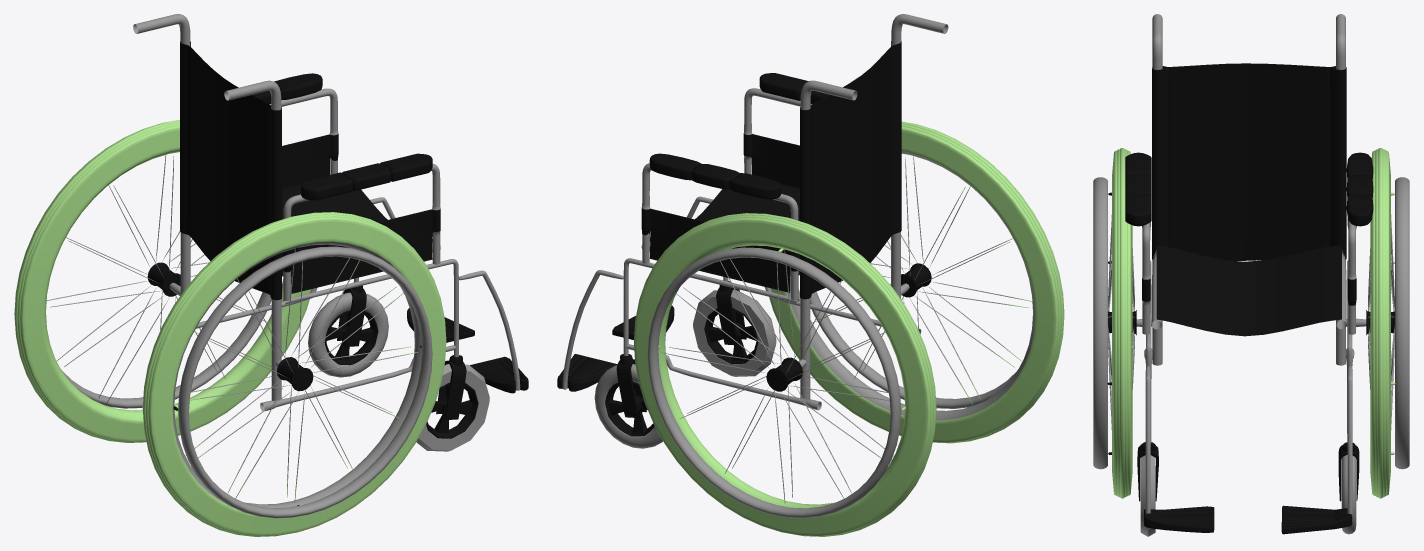
File: Wheelchair 1.FBX
The picture shows the model from 3 angles, left to right: view 1: azimuth 30°, elevation 25°; view 2: azimuth 150°, elevation 25°; view 3: azimuth 270°, elevation 25°; orthographic projection.
Visible parts, largest first — view 1: Chairs, Little wheel Right, Little wheels left, Little wheel left, Little wheel right; view 2: Chairs, Little wheels left, Little wheel Right, Little wheel right, Little wheel left; view 3: Chairs, Little wheels left, Little wheel Right, Little wheel right, Little wheel left.
Boxes of the visible parts, x1,y1,x2,y2 form: Chairs: (133,14,528,505); Little wheel Right: (142,212,446,536); Little wheels left: (14,120,311,442); Little wheel left: (308,282,388,377); Little wheel right: (416,355,489,451); Chairs: (557,14,948,411); Little wheels left: (634,213,936,536); Little wheel Right: (769,121,1064,443); Little wheel right: (693,281,776,376); Little wheel left: (594,354,662,448); Chairs: (1107,14,1395,534); Little wheels left: (1366,148,1409,498); Little wheel Right: (1093,148,1136,498); Little wheel right: (1137,442,1158,536); Little wheel left: (1338,442,1359,534).
Size of the model in its own units: 1.08 by 0.7156 by 1.11.
